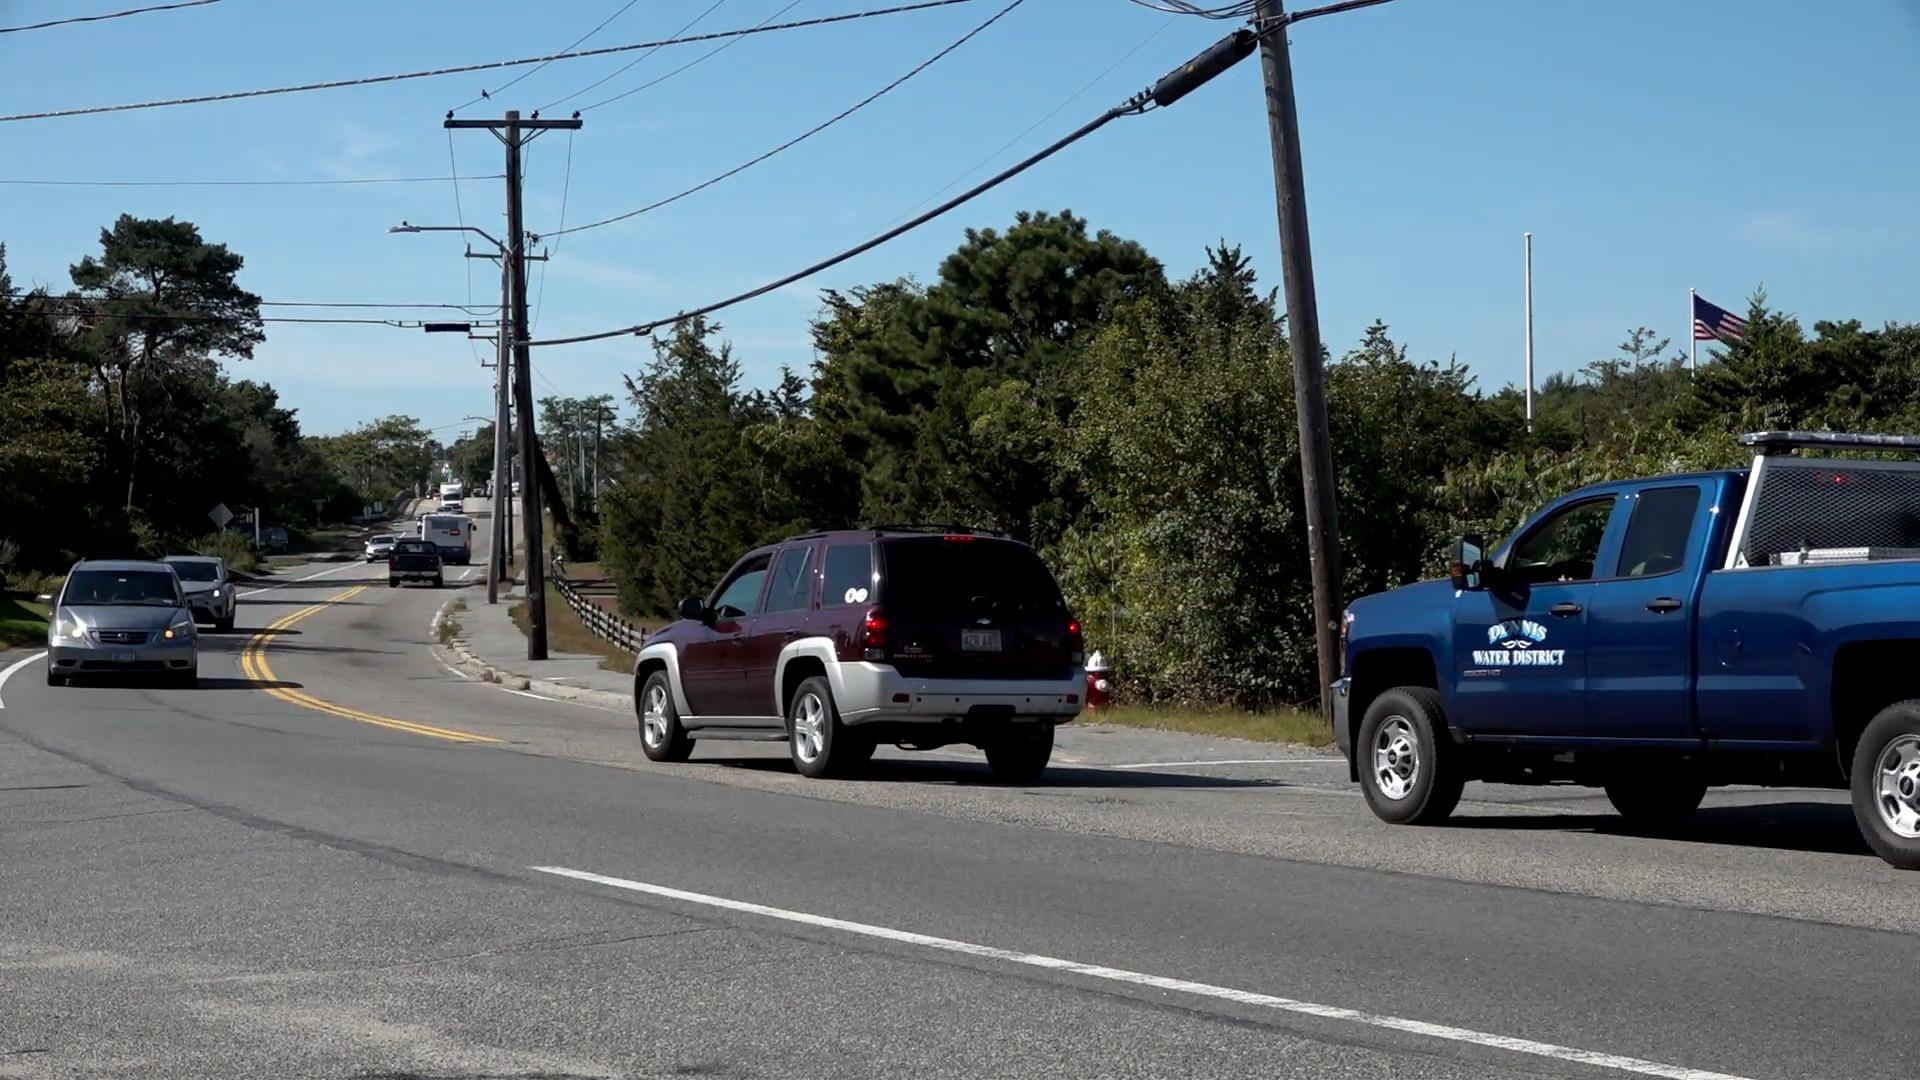minivan: (46, 556, 199, 690)
pickup: (1331, 447, 1920, 874)
suv: (634, 527, 1083, 774)
